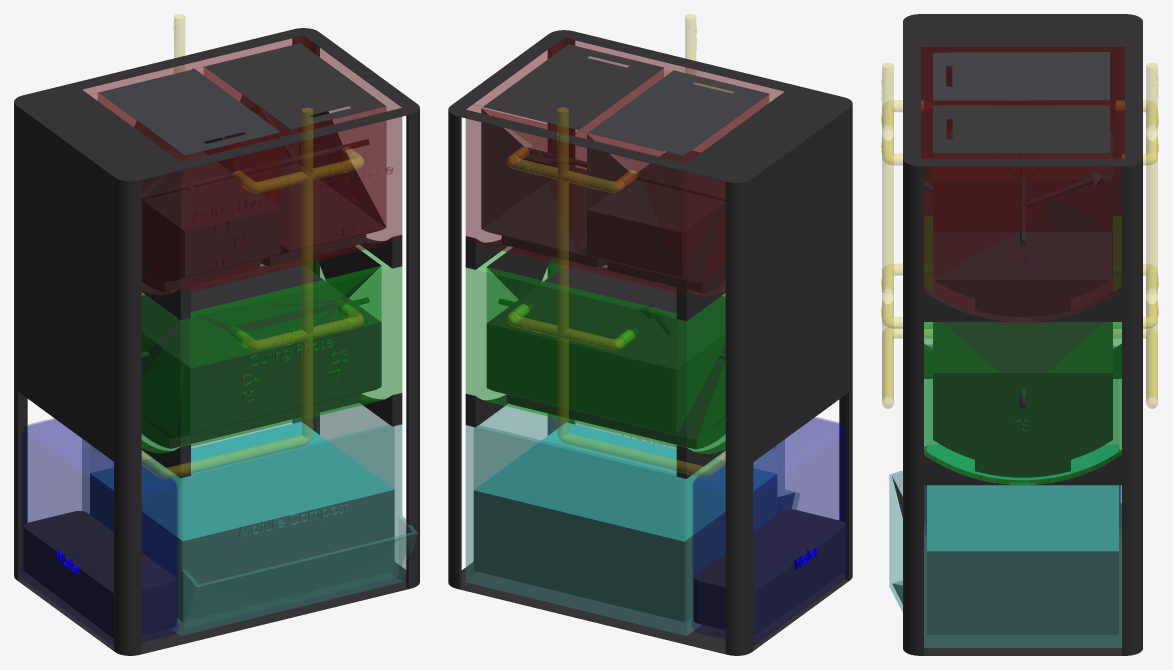
File: animation_transparent.glb
3 renders of one model, left to right at view 1: azimuth 30°, elevation 25°; view 2: azimuth 150°, elevation 25°; view 3: azimuth 270°, elevation 25°, orthographic. The views are drawn at different scales.
Visible parts, largest first — view 1: Part3-1, Part5-1, Part1-1, waste 3-1, Part2-1, waste 2-1, bottle-1, waste 11-4, wasteeee-1, pipe line-1, lid-2, lid-1 (+7 smaller); view 2: Part3-1, Part5-1, Part1-1, waste 3-1, Part2-1, waste 2-1, bottle-1, waste 11-4, wasteeee-1, pipe line-1, lid-1, lid-2 (+7 smaller); view 3: Part3-1, Part1-1, Part5-1, Part2-1, waste 3-1, waste 2-1, waste 1-5, waste 11-4, pipe line-1, lid-1, lid-2, connector-2 (+4 smaller).
Boxes of the visible parts, left/top/right/bottom form: Part3-1: left=14, top=28, right=419, bottom=655; Part5-1: left=82, top=403, right=417, bottom=635; Part1-1: left=83, top=36, right=402, bottom=294; waste 3-1: left=90, top=421, right=394, bottom=621; Part2-1: left=141, top=245, right=402, bottom=453; waste 2-1: left=141, top=260, right=381, bottom=448; bottle-1: left=21, top=418, right=178, bottom=645; waste 11-4: left=141, top=149, right=280, bottom=292; wasteeee-1: left=23, top=511, right=176, bottom=638; pipe line-1: left=142, top=14, right=363, bottom=478; lid-2: left=99, top=69, right=280, bottom=155; lid-1: left=205, top=43, right=385, bottom=129; Part3-1: left=448, top=30, right=852, bottom=655; Part5-1: left=465, top=404, right=799, bottom=635; Part1-1: left=465, top=38, right=784, bottom=295; waste 3-1: left=473, top=422, right=776, bottom=621; Part2-1: left=465, top=246, right=725, bottom=453; waste 2-1: left=486, top=261, right=725, bottom=449; bottle-1: left=691, top=417, right=847, bottom=644; waste 11-4: left=587, top=150, right=725, bottom=293; wasteeee-1: left=693, top=509, right=845, bottom=634; pipe line-1: left=507, top=14, right=732, bottom=477; lid-1: left=483, top=44, right=663, bottom=130; lid-2: left=588, top=70, right=768, bottom=155; Part3-1: left=903, top=14, right=1142, bottom=655; Part1-1: left=921, top=47, right=1124, bottom=324; Part5-1: left=889, top=379, right=1121, bottom=647; Part2-1: left=924, top=216, right=1121, bottom=484; waste 3-1: left=927, top=444, right=1118, bottom=634; waste 2-1: left=933, top=279, right=1112, bottom=477; waste 1-5: left=934, top=231, right=1111, bottom=316; waste 11-4: left=933, top=131, right=1112, bottom=231; pipe line-1: left=881, top=63, right=1158, bottom=408; lid-1: left=933, top=105, right=1110, bottom=153; lid-2: left=933, top=52, right=1110, bottom=100; connector-2: left=924, top=450, right=1121, bottom=485.
Size of the model in its own units: 0.605 by 0.969 by 0.462.
